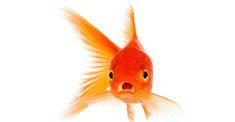goldfish: (75, 27, 176, 111)
